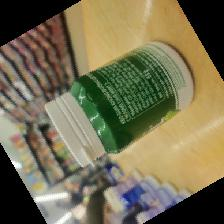Xylitol_green: (43, 39, 197, 169)
